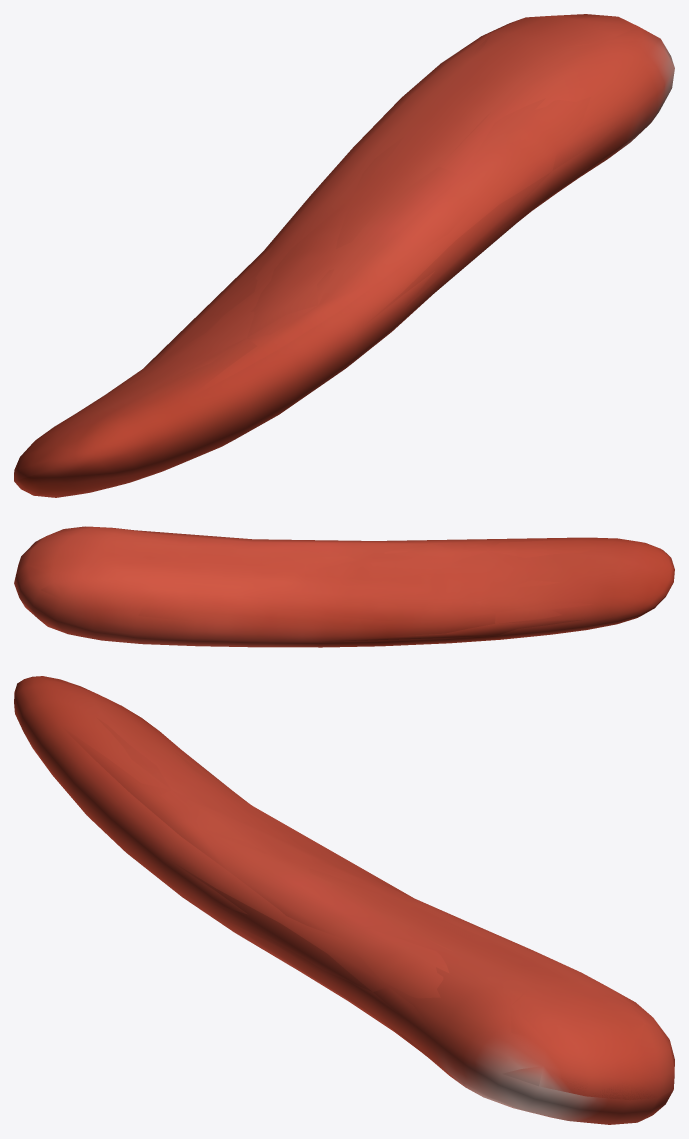
Rendered from R pectoralis profundus.fbx.
3 views of the same model, one above another, from view 1: azimuth 30°, elevation 25°; view 2: azimuth 150°, elevation 25°; view 3: azimuth 270°, elevation 25° (orthographic). The views are drawn at different scales.
Visible parts, largest first — view 1: R pectoralis profundus, R pectoralis profundus low; view 2: R pectoralis profundus, R pectoralis profundus low; view 3: R pectoralis profundus, R pectoralis profundus low.
Part boxes in pixels (x1,y1,x2,y2): R pectoralis profundus: (14,14,674,497); R pectoralis profundus low: (117,18,674,411); R pectoralis profundus: (14,526,674,647); R pectoralis profundus low: (15,529,606,641); R pectoralis profundus: (14,676,674,1124); R pectoralis profundus low: (61,717,670,1107).
Size of the model in its own units: 8.25 by 1.39 by 5.53.
